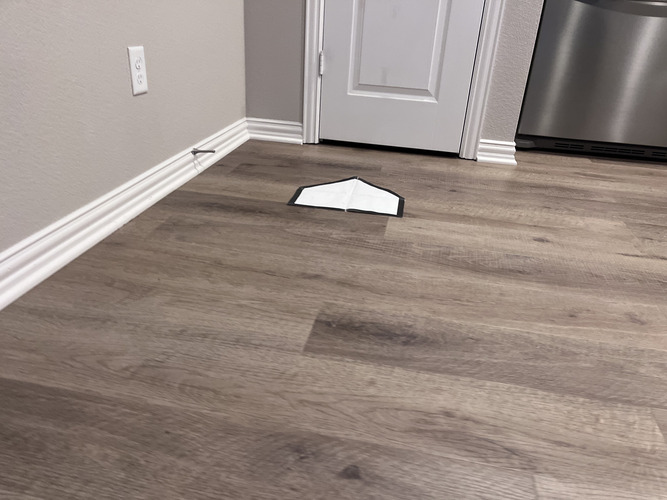homeplate: (289, 176, 404, 219)
